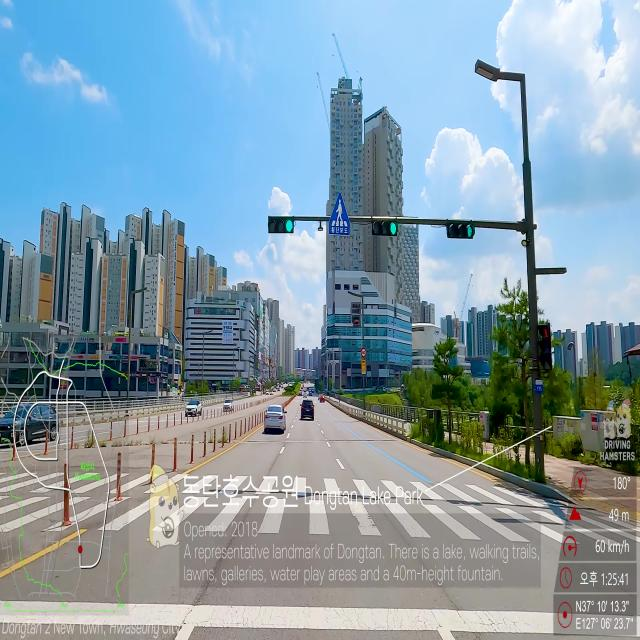Green Light: (284, 217, 293, 233), (390, 222, 397, 235), (466, 224, 472, 238)
